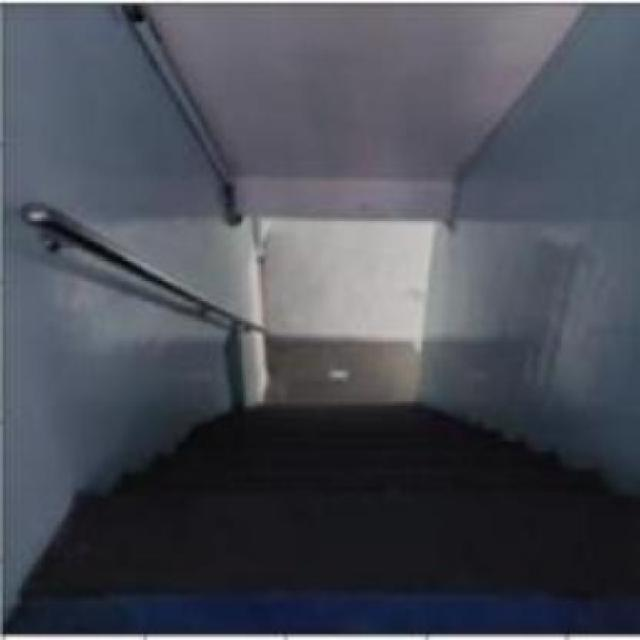stair: (77, 387, 640, 538)
